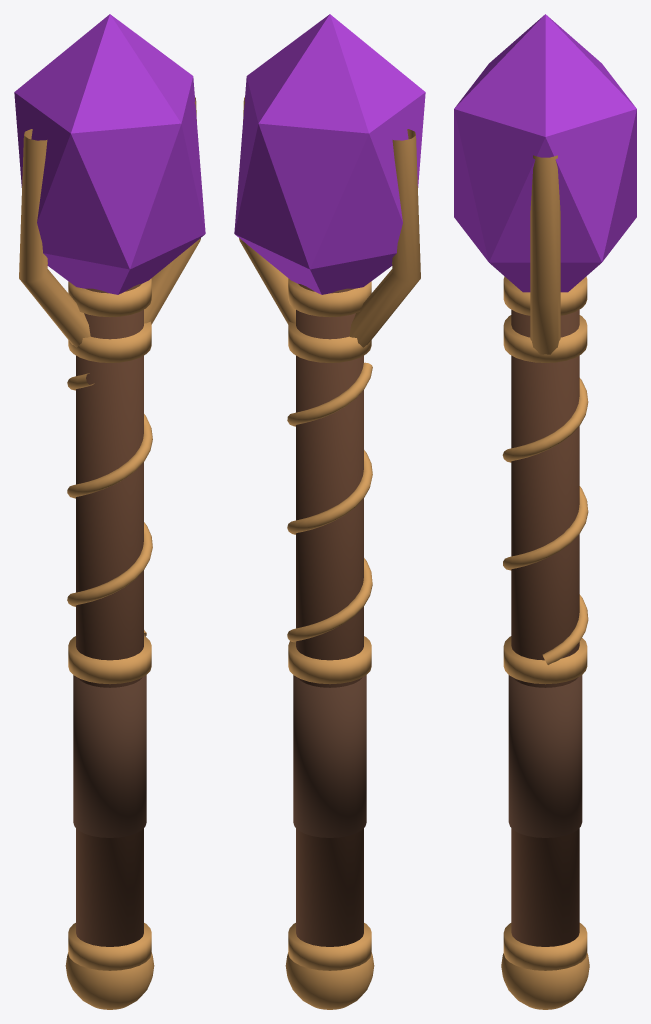
File: lourd.glb
3 renders of one model, left to right at view 1: azimuth 30°, elevation 25°; view 2: azimuth 150°, elevation 25°; view 3: azimuth 270°, elevation 25°, orthographic.
Visible parts, largest first — view 1: Arme_lourd; view 2: Arme_lourd; view 3: Arme_lourd.
Boxes of the visible parts, x1,y1,x2,y2 form: Arme_lourd: (14, 14, 205, 1009); Arme_lourd: (234, 14, 425, 1009); Arme_lourd: (454, 14, 636, 1009).
Bounding box in the file's own units: 0.1619 × 0.865 × 0.1446.
